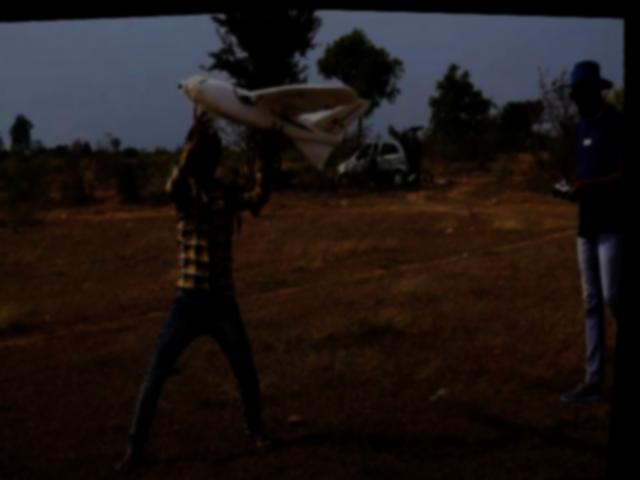iha: (166, 52, 382, 183)
